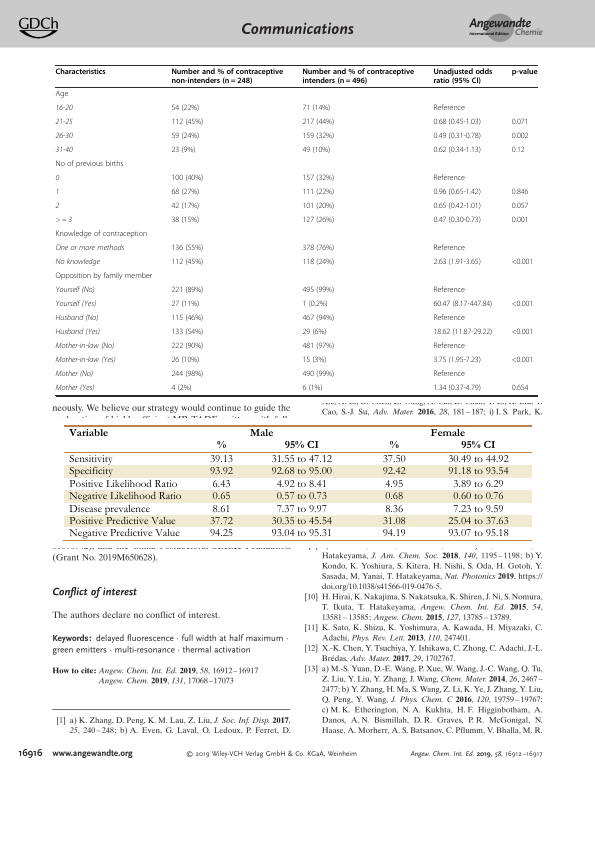borderless: (54, 64, 537, 395), (64, 423, 532, 540)
cell: (170, 68, 284, 86), (301, 68, 415, 86), (68, 491, 182, 503), (68, 528, 180, 540), (68, 478, 178, 490), (68, 516, 176, 528), (432, 68, 493, 86), (68, 503, 150, 515), (55, 272, 153, 282), (55, 230, 148, 240), (270, 454, 332, 466), (447, 454, 509, 466), (270, 466, 332, 478), (447, 466, 509, 478), (270, 516, 332, 528), (447, 516, 509, 528), (270, 528, 332, 540), (447, 528, 509, 540), (55, 160, 124, 170), (55, 244, 125, 253), (275, 478, 327, 490), (452, 478, 504, 490), (275, 491, 327, 503), (452, 491, 504, 503), (275, 503, 327, 515), (452, 503, 504, 515), (432, 300, 493, 310), (432, 328, 493, 338), (55, 356, 117, 365), (55, 342, 115, 351), (68, 454, 113, 466), (68, 466, 113, 478), (432, 118, 482, 128), (432, 132, 482, 142), (432, 146, 482, 156), (432, 188, 482, 198), (432, 202, 482, 212), (432, 216, 482, 226), (432, 258, 482, 268), (432, 356, 482, 366), (432, 384, 482, 394), (55, 68, 107, 77), (55, 258, 101, 268), (55, 328, 101, 337), (68, 427, 109, 437), (55, 314, 99, 323), (55, 300, 97, 309), (55, 286, 96, 295), (55, 384, 95, 393), (429, 427, 465, 437), (55, 370, 94, 379), (432, 104, 466, 114), (170, 118, 204, 128), (301, 118, 335, 128), (301, 132, 335, 142), (170, 174, 204, 184), (301, 174, 335, 184), (432, 174, 466, 184), (301, 188, 335, 198), (301, 202, 335, 212), (301, 216, 335, 226), (170, 244, 204, 254), (301, 244, 335, 254), (432, 244, 466, 254), (170, 258, 204, 268), (301, 258, 335, 268), (170, 286, 204, 296), (301, 286, 335, 296), (432, 286, 466, 296), (170, 314, 204, 324), (301, 314, 335, 324), (432, 314, 466, 324), (170, 328, 204, 338), (170, 342, 204, 352), (301, 342, 335, 352), (432, 342, 466, 352), (170, 370, 204, 380), (301, 370, 335, 380), (432, 370, 466, 380), (283, 440, 319, 449), (460, 440, 496, 449), (170, 104, 200, 114), (301, 104, 331, 114), (170, 132, 200, 142), (301, 146, 331, 156), (170, 188, 200, 198), (170, 202, 200, 212), (170, 216, 200, 226), (170, 300, 200, 310), (170, 356, 200, 366), (208, 454, 233, 466), (381, 454, 406, 466), (208, 466, 233, 478), (381, 466, 406, 478), (208, 516, 233, 528), (381, 516, 406, 528), (208, 528, 233, 540), (381, 528, 406, 540), (301, 300, 329, 310), (170, 146, 196, 156), (301, 328, 327, 338), (301, 356, 327, 366), (248, 427, 274, 437), (511, 68, 538, 77), (211, 478, 231, 490), (211, 491, 231, 503), (211, 503, 231, 515), (511, 258, 534, 268), (511, 300, 534, 310), (511, 328, 534, 338), (511, 356, 534, 366), (384, 478, 403, 490), (384, 491, 403, 503), (384, 503, 403, 515), (170, 384, 192, 394), (301, 384, 323, 394), (511, 118, 529, 128), (511, 132, 529, 142), (511, 188, 529, 198), (511, 202, 529, 212), (511, 216, 529, 226), (511, 384, 529, 394), (55, 104, 73, 113), (55, 118, 73, 127), (55, 132, 73, 141), (55, 146, 73, 155), (55, 216, 73, 225), (511, 146, 526, 156), (55, 90, 69, 100), (215, 440, 226, 449), (388, 440, 399, 449), (55, 174, 60, 183), (55, 188, 60, 197), (55, 202, 60, 211)
